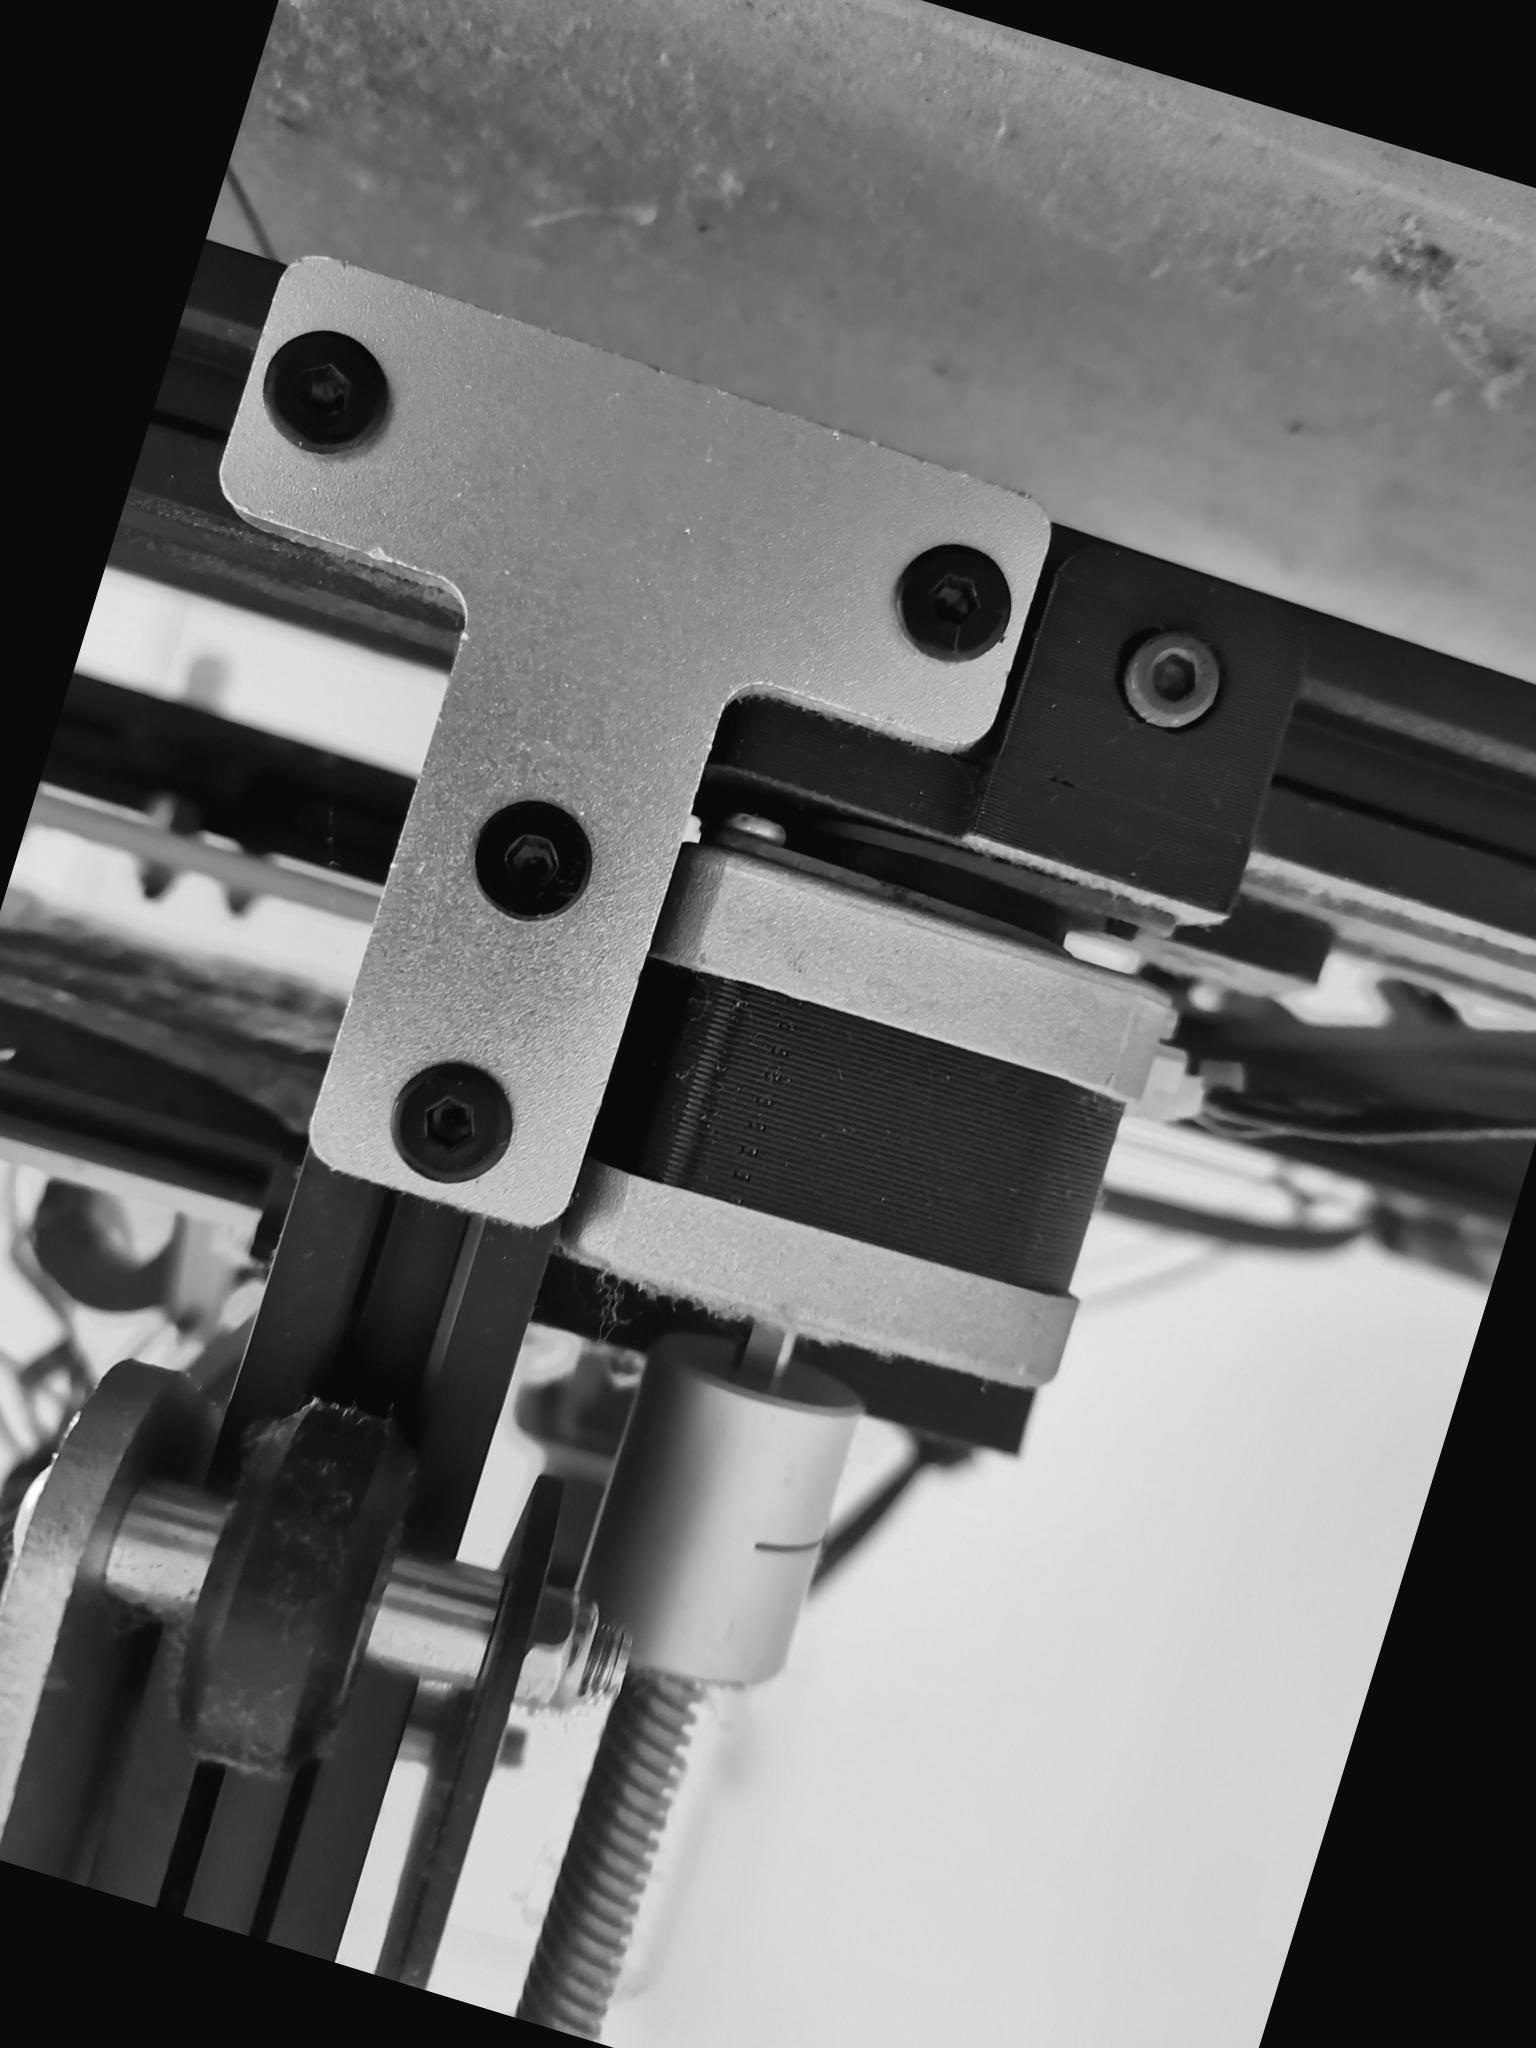allen: (240, 306, 416, 476), (442, 777, 610, 947), (374, 1037, 541, 1201), (871, 521, 1029, 681), (1108, 606, 1241, 742)
